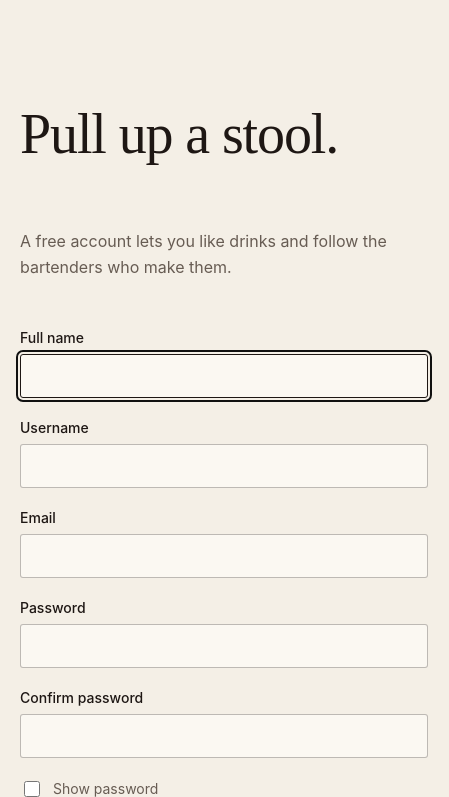
Signup › blocks submission when username or password is missing
In the field labelled "Email": {"x": 224, "y": 556} [20, 534, 428, 578], type "jamie@example.com"
(page scrolled)
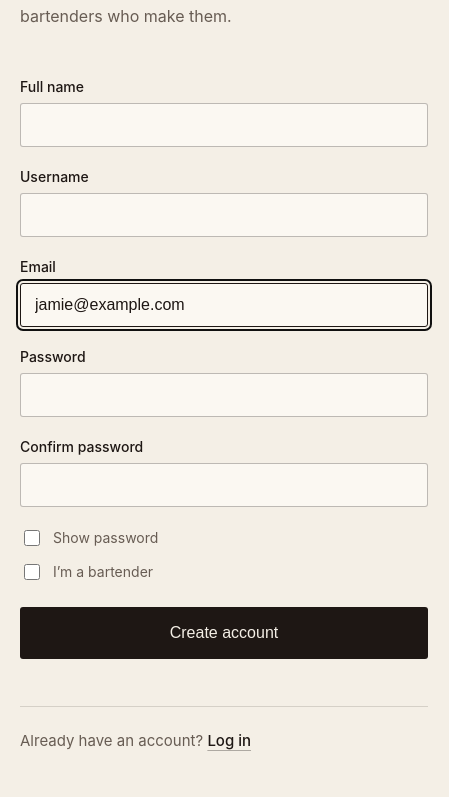
Click the button "Create account": {"x": 224, "y": 633} [20, 607, 428, 659]
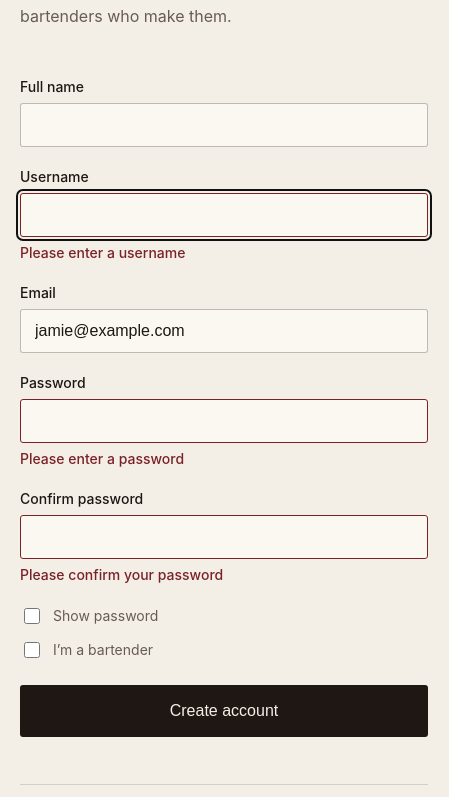
Now the text "Please enter a username" is shown, box [20, 244, 186, 261]
Now the text "Please enter a password" is shown, box [20, 450, 184, 467]
